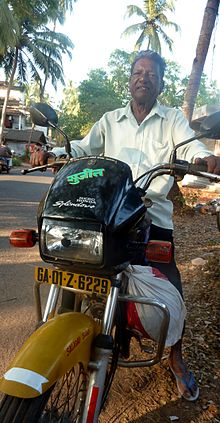number_plate: (31, 264, 116, 304)
